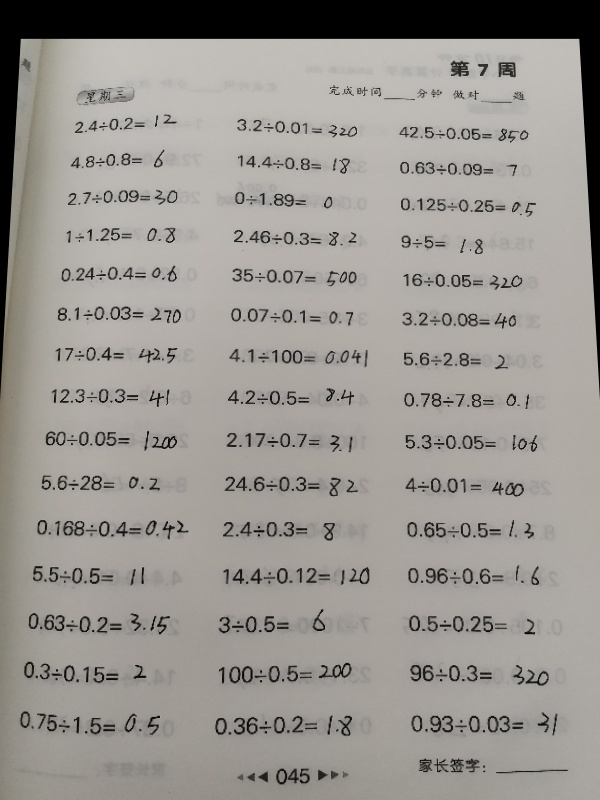equation: (407, 711, 563, 741), (406, 660, 556, 691), (210, 711, 356, 741), (23, 608, 172, 637), (32, 516, 191, 543), (15, 708, 163, 737), (405, 611, 540, 642), (215, 606, 339, 639), (34, 468, 174, 497), (220, 564, 374, 590), (41, 428, 184, 456), (403, 559, 542, 587), (213, 659, 355, 686), (220, 471, 361, 498), (59, 219, 184, 249), (226, 346, 372, 371), (18, 659, 152, 686), (402, 515, 536, 542), (28, 562, 157, 590), (48, 342, 182, 368), (401, 431, 544, 455), (220, 518, 346, 545), (222, 428, 356, 452), (396, 195, 539, 217), (400, 349, 524, 374), (225, 386, 363, 408), (228, 265, 360, 288), (47, 384, 172, 408), (398, 389, 534, 411), (53, 302, 183, 325), (230, 188, 345, 214), (230, 226, 359, 249), (394, 231, 499, 259), (226, 305, 357, 327), (401, 474, 526, 497), (57, 263, 181, 286), (395, 123, 531, 143), (398, 309, 519, 331), (233, 153, 354, 175), (399, 270, 525, 291), (233, 118, 361, 138), (64, 186, 180, 208), (395, 158, 520, 178), (68, 146, 168, 171), (71, 113, 180, 133)
